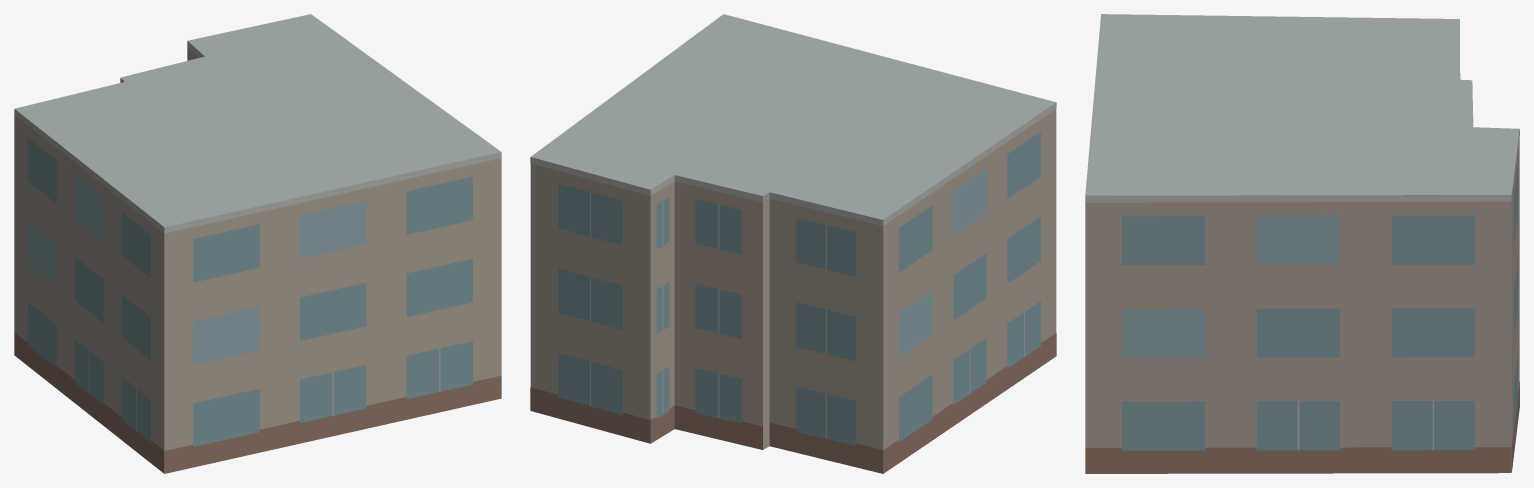
Rendered from survey-upis-32659085.glb.
3 views of the same model, side by side, from view 1: azimuth 30°, elevation 25°; view 2: azimuth 150°, elevation 25°; view 3: azimuth 270°, elevation 25° (orthographic). The views are drawn at different scales.
Parts seen in each view (by area): view 1: survey-upis-32659085.tmp; view 2: survey-upis-32659085.tmp; view 3: survey-upis-32659085.tmp.
Part boxes in pixels (x1,y1,x2,y2): survey-upis-32659085.tmp: [14, 14, 501, 473]; survey-upis-32659085.tmp: [530, 14, 1056, 473]; survey-upis-32659085.tmp: [1085, 14, 1519, 473].
Size of the model in its own units: 13.88 by 9.9 by 14.03.
